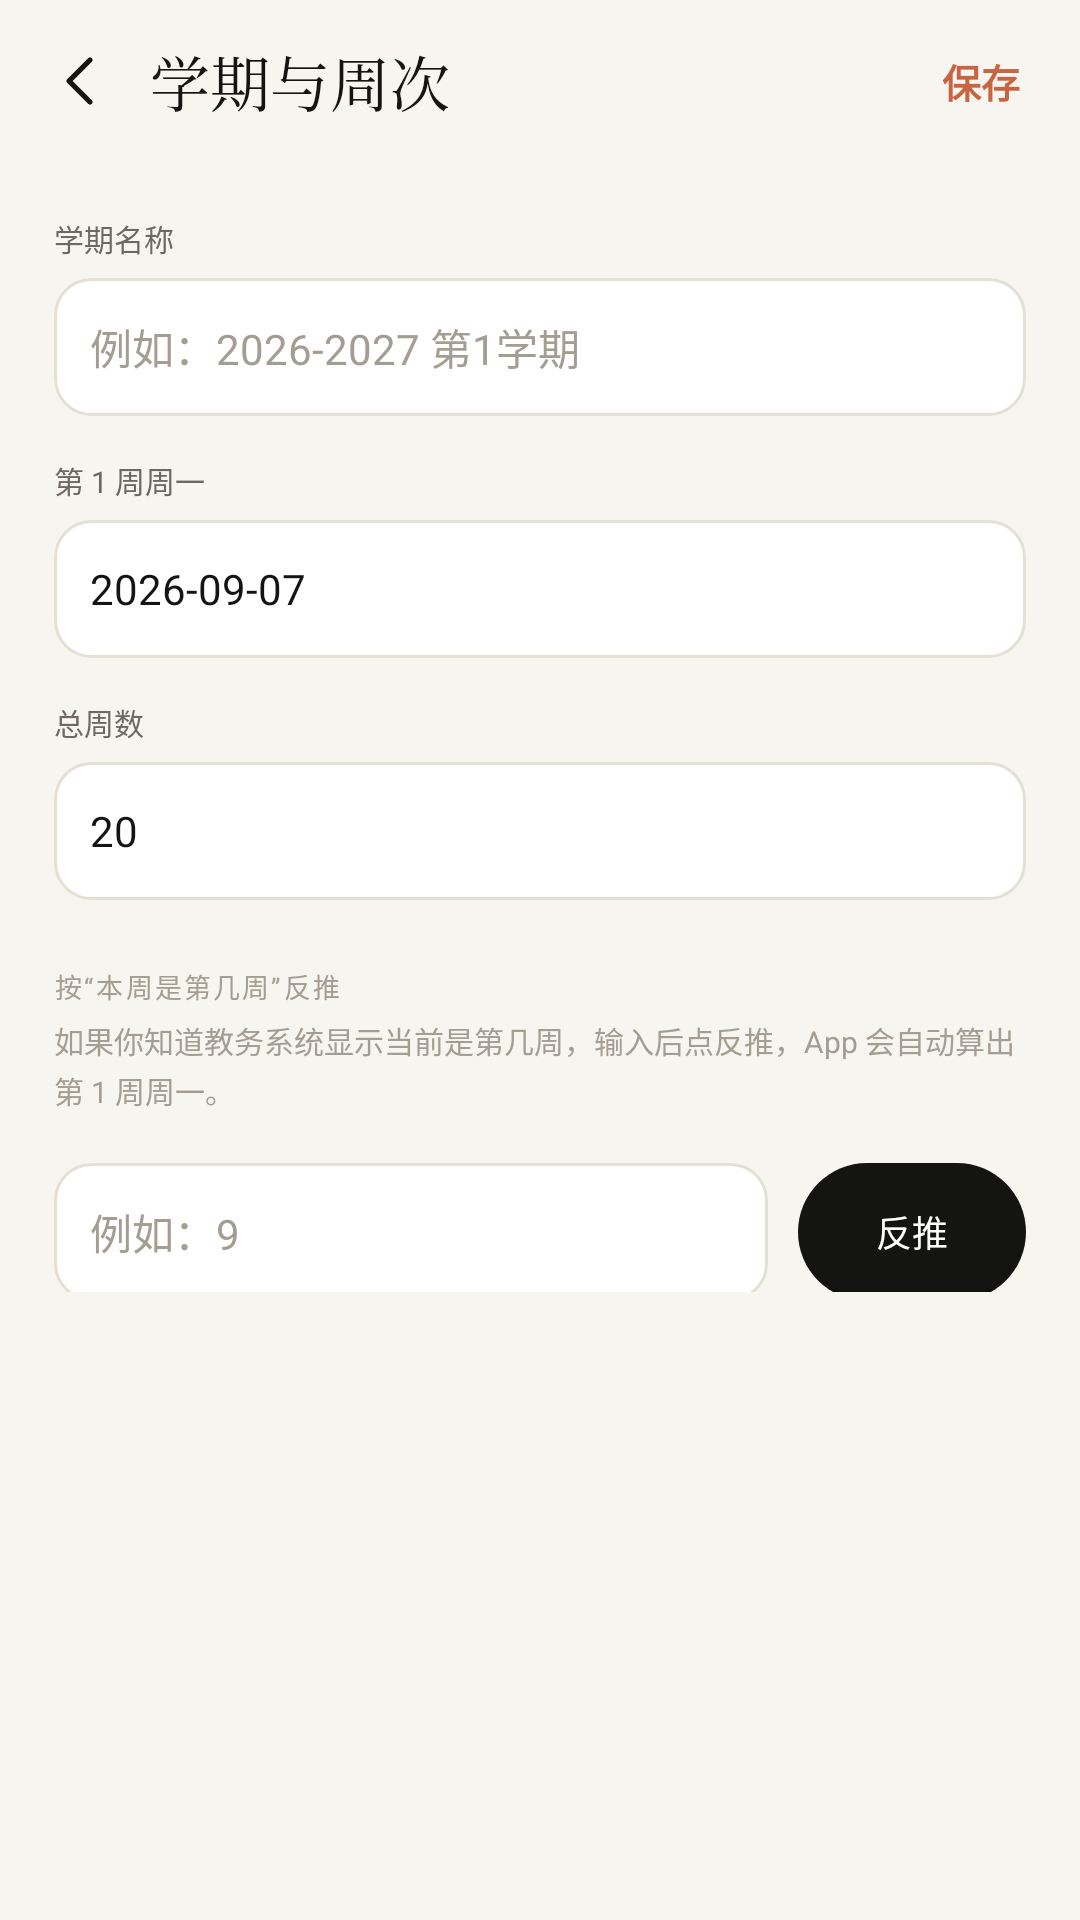

Named icons in this screenshot (1080x1920) and their bounding boxes, (x1=x1, y1=y1, x2=x2, y2=y2):
返回: (x1=66, y1=57, x2=93, y2=105)
